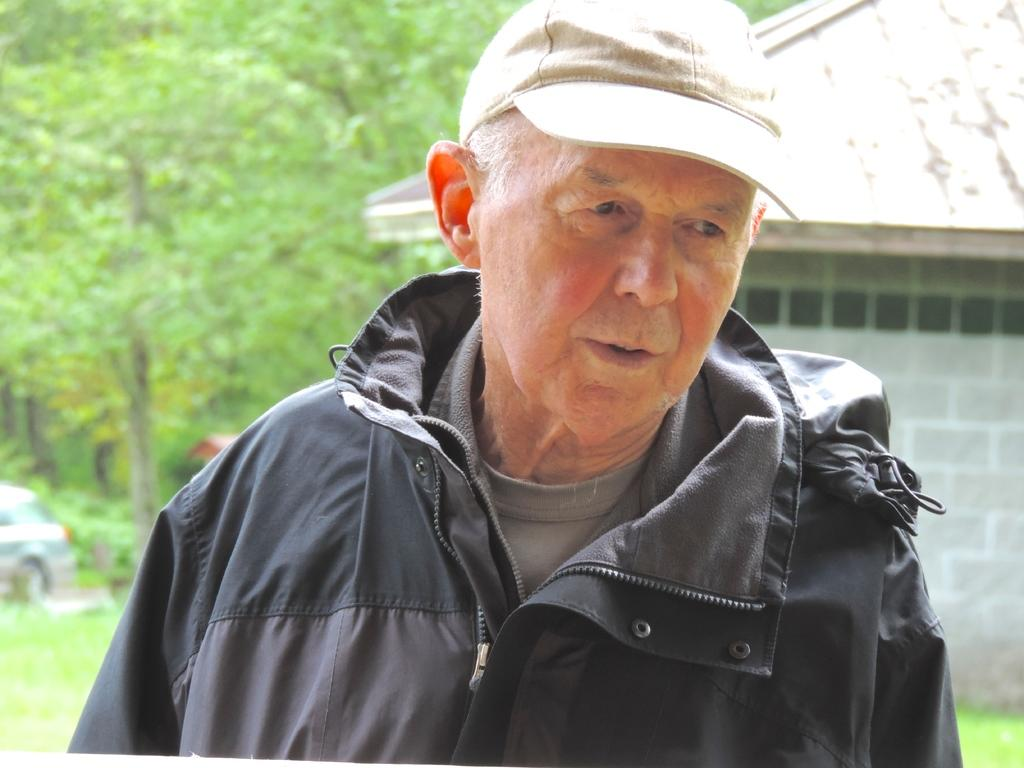Hat: (456, 0, 802, 221)
